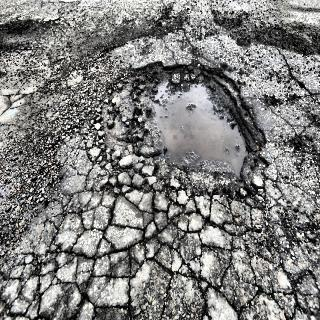alligator-crack: (1, 119, 320, 320), (1, 76, 43, 120)
crack: (274, 46, 319, 106), (174, 20, 214, 64), (160, 34, 178, 64)
pothole: (95, 63, 250, 196)
